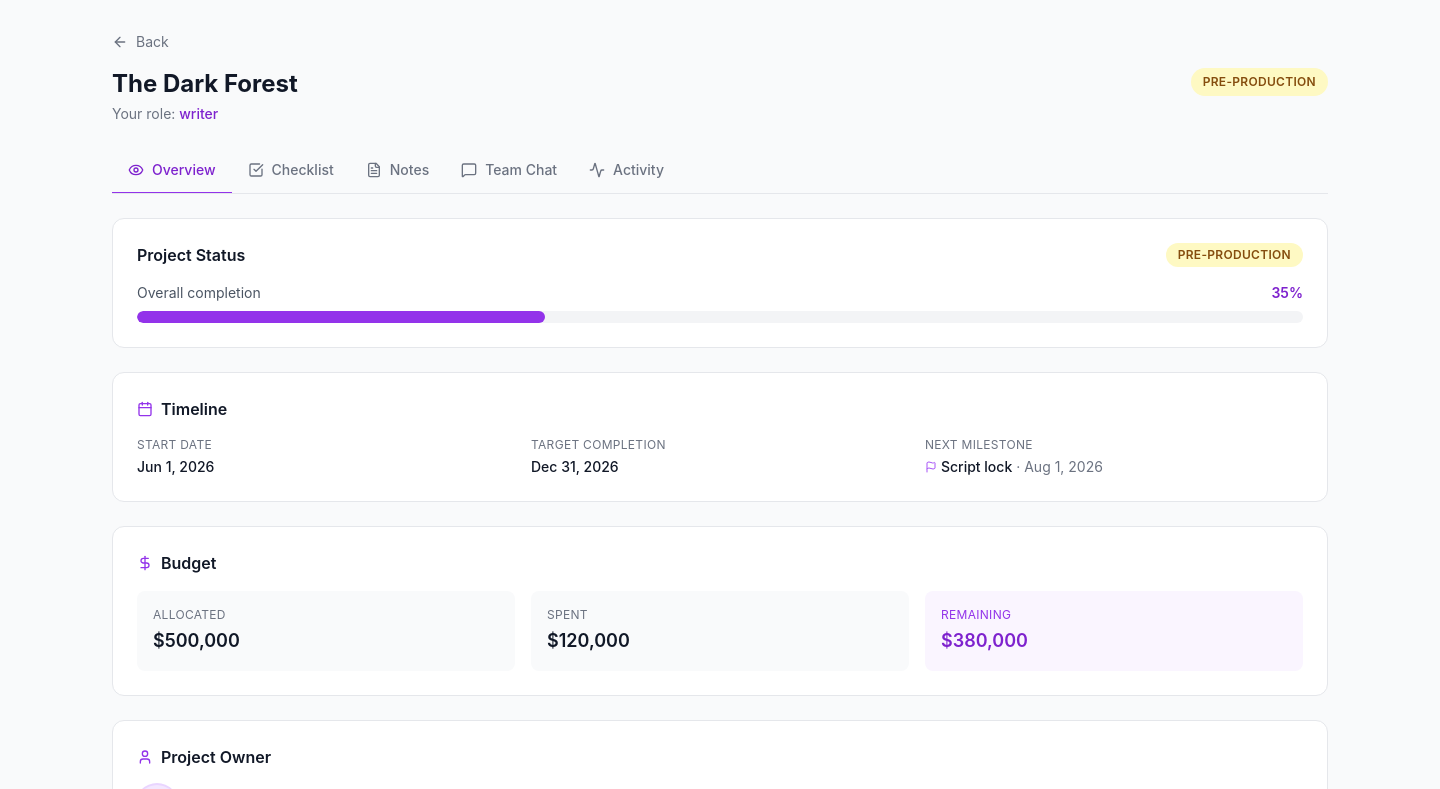
Test case: CollaborationProjectView › Checklist tab › shows empty state when checklist is empty
Step 1. Click the button "Checklist" → point(291, 171), box [232, 148, 350, 194]
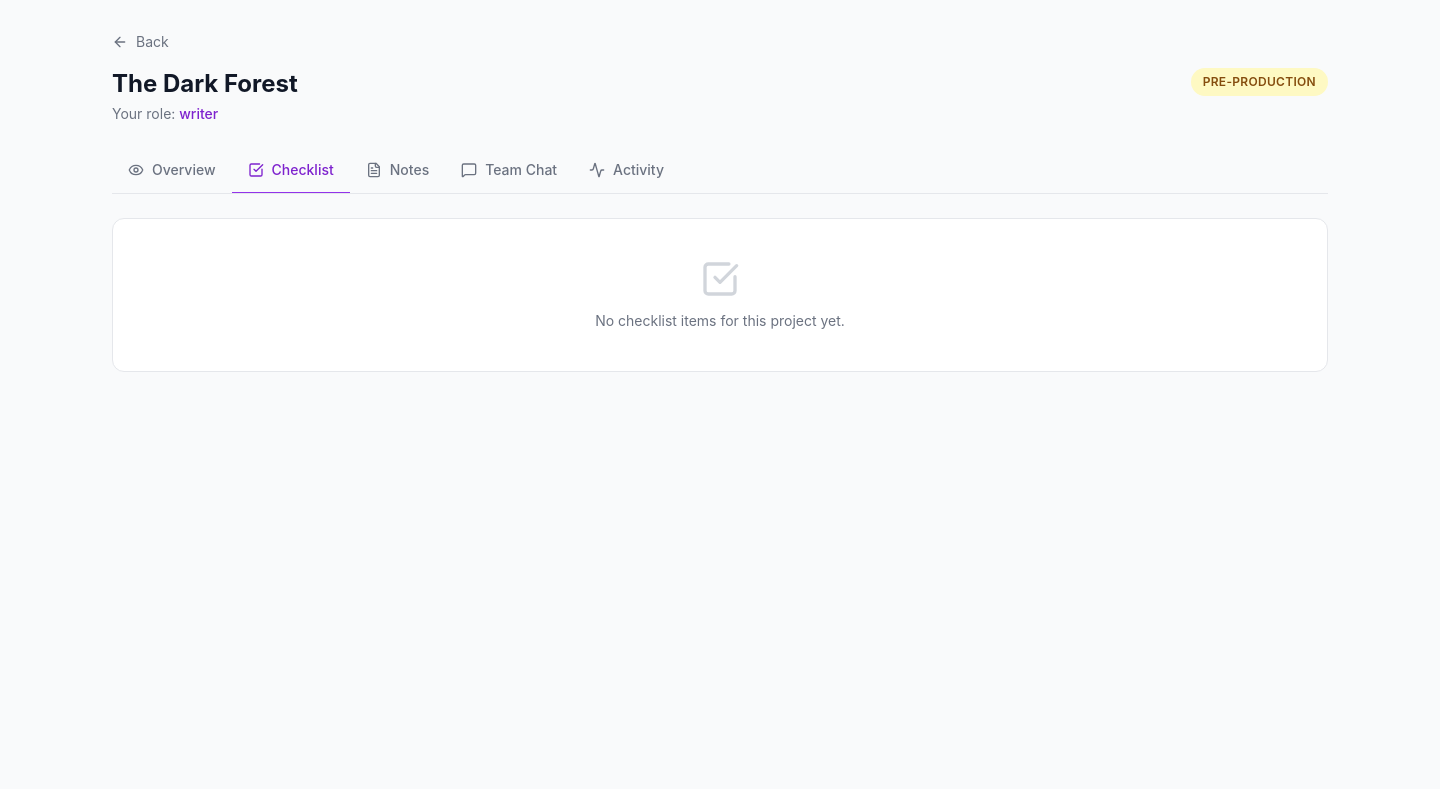
Result: the text "No checklist items for this project yet." is shown at [595, 312, 845, 329]
